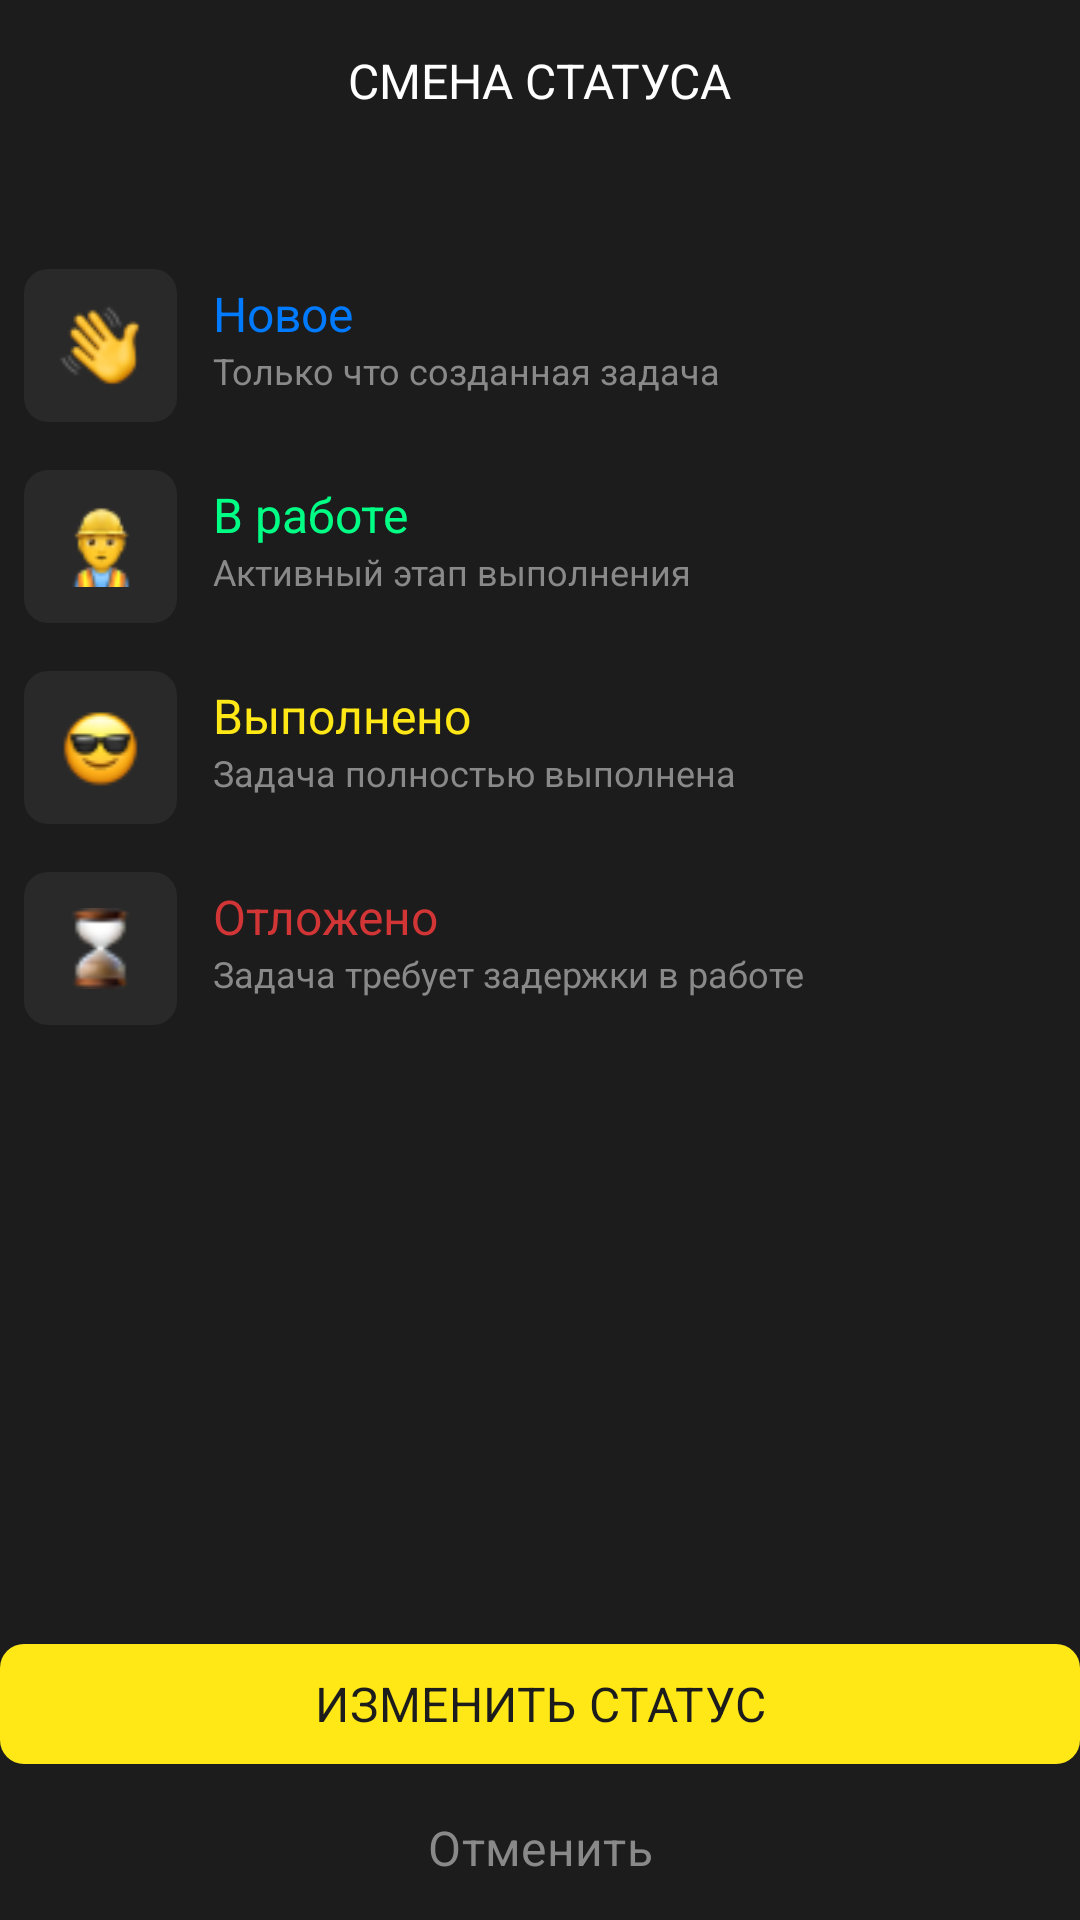

Where to tap for icons on this 1080 x 1920 app screen, as (x=x, y=y):
status hold over: (x=100, y=948)
status in work: (x=101, y=547)
status performed: (x=100, y=749)
